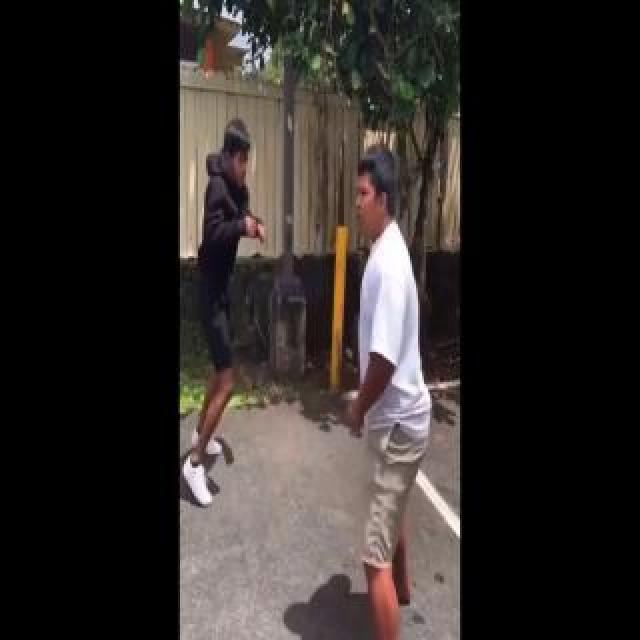fight: (188, 96, 442, 640)
